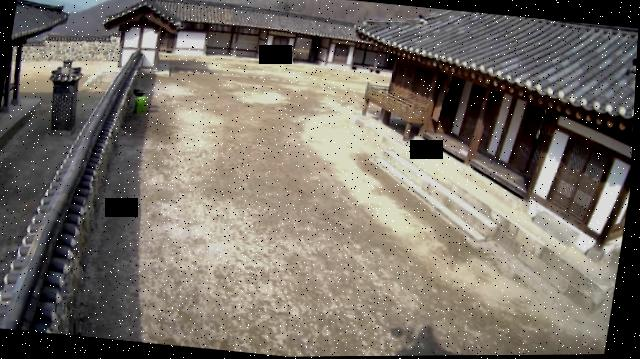bag: (136, 96, 152, 114)
